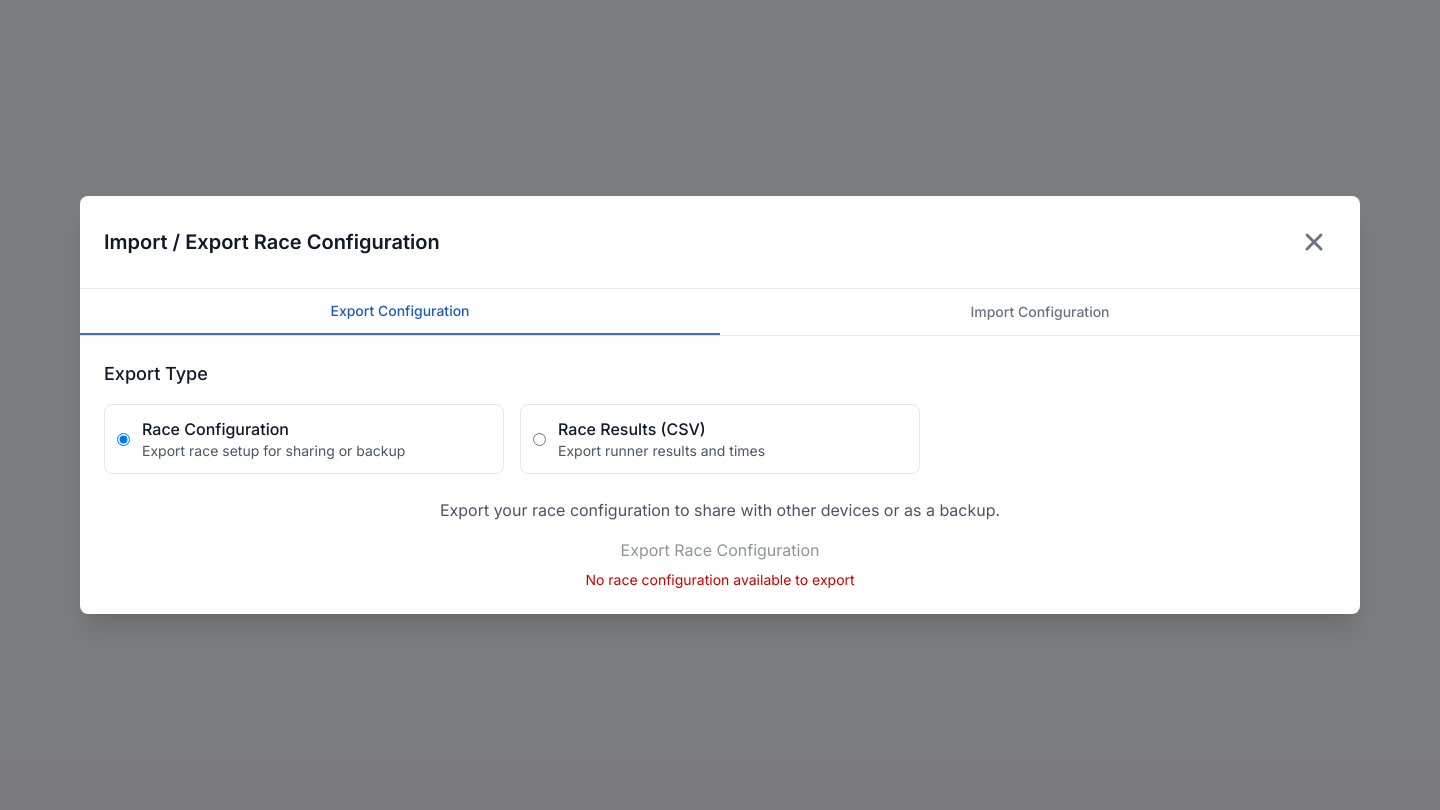
Test case: ImportExportModal — QR import integration › shows "Scan QR Code" button on the import tab
The width and height of the screenshot is (1440, 810).
Click the button "Import Configuration" at (1040, 312), box [720,289,1360,335]
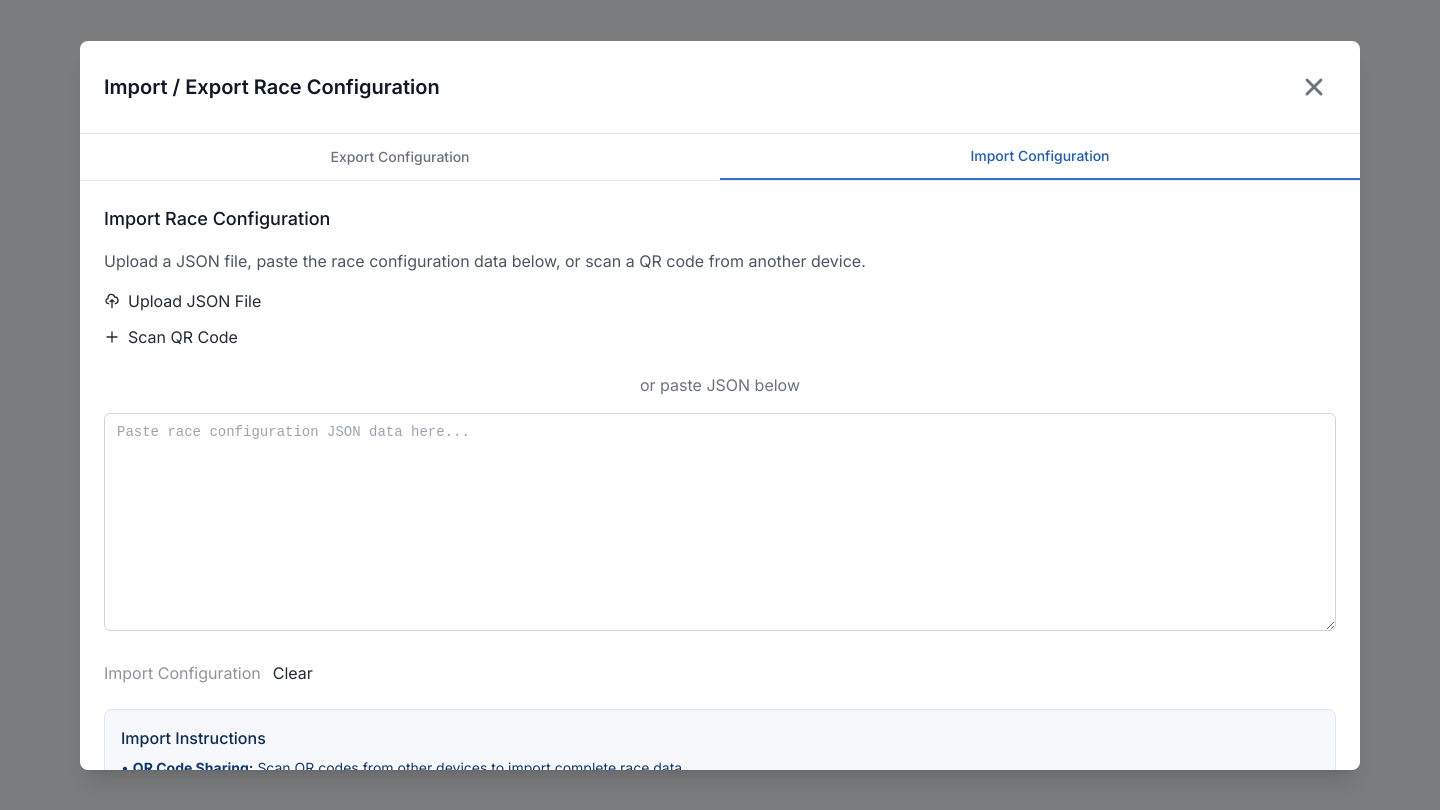
Expected: the button "Scan QR Code" is shown, [104,324,238,348]
